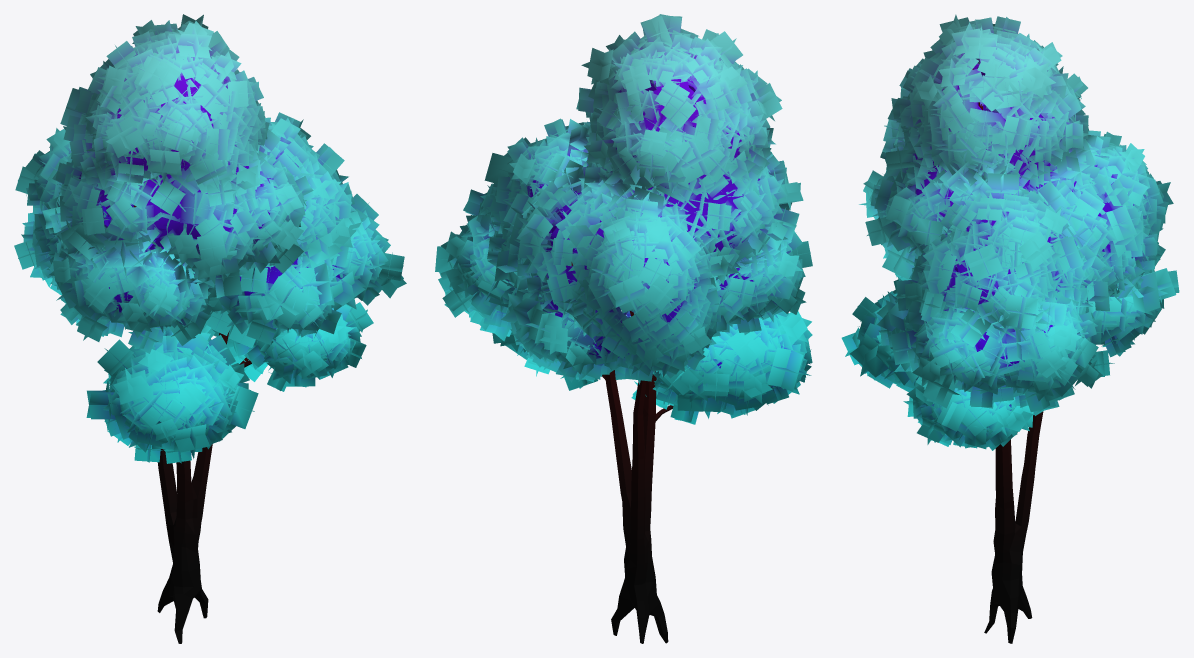
The model's file is SM_Env_Tree_Birch_02.FBX.
The picture shows the model from 3 angles, left to right: view 1: azimuth 30°, elevation 25°; view 2: azimuth 150°, elevation 25°; view 3: azimuth 270°, elevation 25°; orthographic projection. The views are drawn at different scales.
Parts seen in each view (by area): view 1: SM_Env_Tree_Birch_02; view 2: SM_Env_Tree_Birch_02; view 3: SM_Env_Tree_Birch_02.
Boxes of the visible parts, bbox=[...] form: SM_Env_Tree_Birch_02: bbox=[14, 14, 406, 643]; SM_Env_Tree_Birch_02: bbox=[435, 14, 812, 643]; SM_Env_Tree_Birch_02: bbox=[841, 14, 1179, 643].
Bounding box in the file's own units: 535 × 479 × 957.
